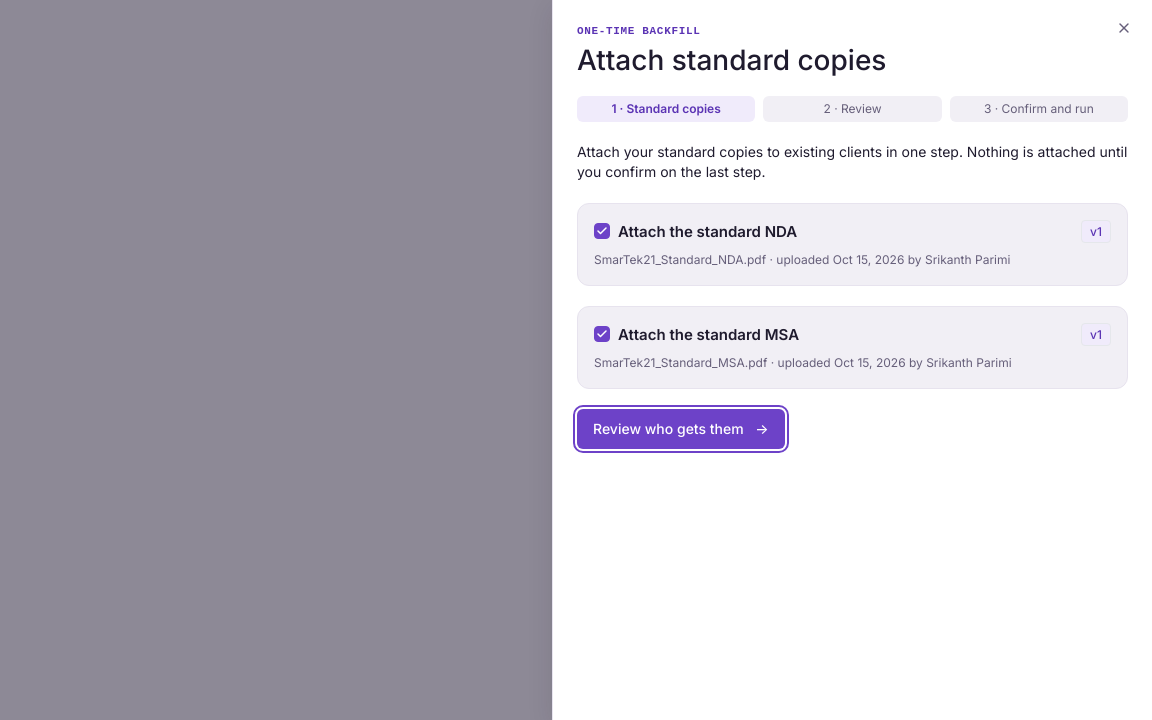
Scenario: steps 2 and 3 · dry run, confirm and run › each step moves keyboard focus to the dialog title, never leaving it on a control that is gone
Click the button "Review who gets them →": (681, 429) 577,409 -> 785,449
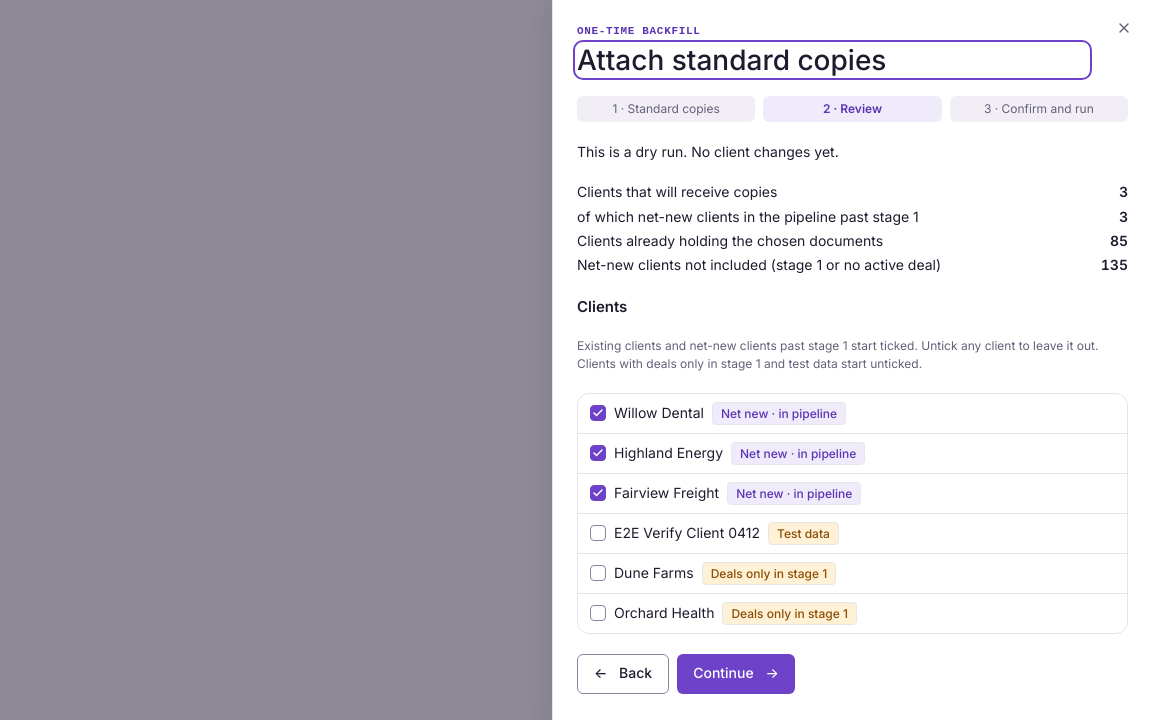
Expected: the text "Willow Dental" is shown, 614,403 -> 704,423
Click the button "Continue →": (736, 674) 677,654 -> 795,694
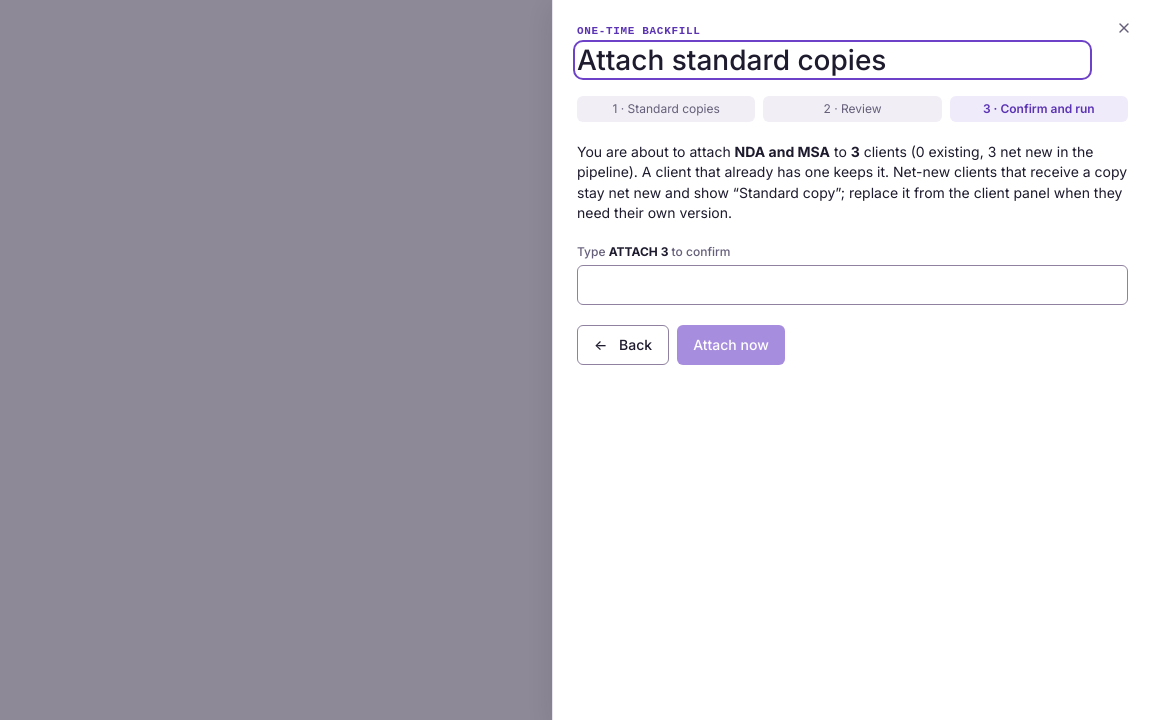
Expected: the field labelled "Type ATTACH 3 to confirm" is shown, 577,265 -> 1128,305
